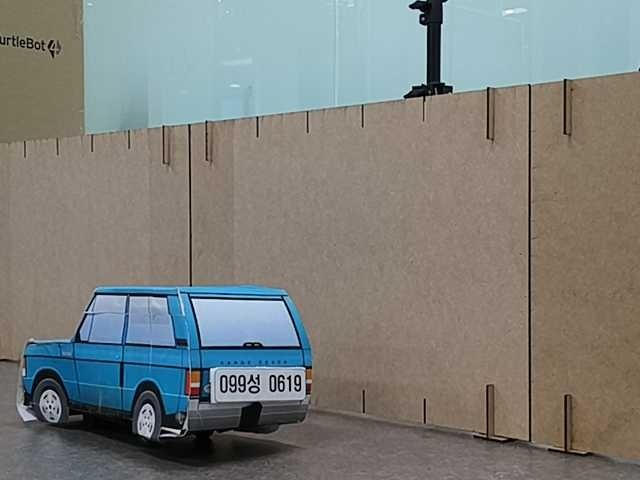car: (15, 282, 321, 451)
id: (208, 363, 313, 408)
